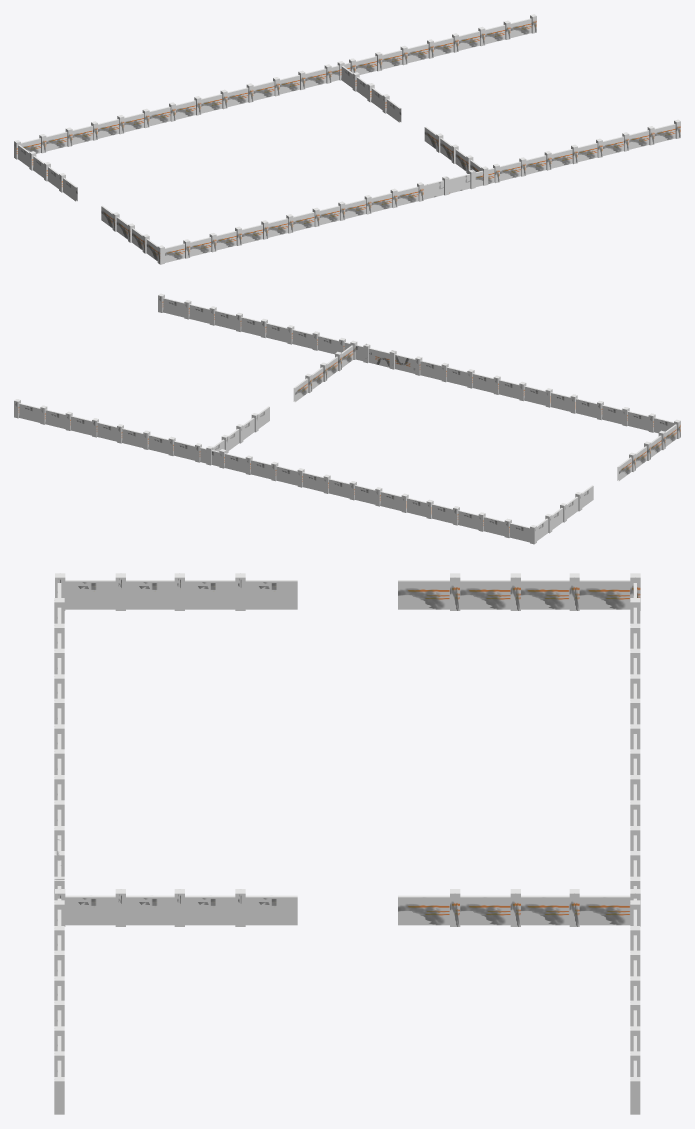
The model's file is Wall.fbx.
3 views of the same model, one above another, from view 1: azimuth 30°, elevation 25°; view 2: azimuth 150°, elevation 25°; view 3: azimuth 270°, elevation 25° (orthographic). The views are drawn at different scales.
Visible parts, largest first — view 1: Cube.061, Cube.064, Cube.049, Cube.054, Cube.059, Cube.060, Cube.051, Cube.062, Cube.053, Cube.057, Cube.063, Cube.065 (+16 smaller); view 2: Cube.053, Cube.064, Cube.054, Cube.061, Cube.063, Cube.049, Cube.051, Cube.059, Cube.052, Cube.062, Cube.065, Cube.067 (+16 smaller); view 3: Cube.074, Cube.076, Cube.046, Cube.048, Cube.073, Cube.075, Cube.045, Cube.047.
Boxes of the visible parts, <box> form: Cube.061: <box>319,195,371,225</box>; Cube.064: <box>371,182,423,212</box>; Cube.049: <box>72,115,124,144</box>; Cube.054: <box>227,77,279,106</box>; Cube.059: <box>216,220,268,250</box>; Cube.060: <box>165,233,216,262</box>; Cube.051: <box>176,89,227,119</box>; Cube.062: <box>268,207,319,237</box>; Cube.053: <box>280,64,331,94</box>; Cube.057: <box>485,14,536,44</box>; Cube.063: <box>424,169,475,199</box>; Cube.065: <box>526,144,577,174</box>; Cube.053: <box>219,449,271,479</box>; Cube.064: <box>415,356,467,386</box>; Cube.054: <box>271,461,323,491</box>; Cube.061: <box>467,369,519,399</box>; Cube.063: <box>363,343,415,373</box>; Cube.049: <box>426,499,478,529</box>; Cube.051: <box>323,474,375,504</box>; Cube.059: <box>570,394,622,424</box>; Cube.052: <box>375,487,426,517</box>; Cube.062: <box>519,381,570,411</box>; Cube.065: <box>261,318,312,348</box>; Cube.067: <box>158,293,209,323</box>; Cube.074: <box>174,889,297,926</box>; Cube.076: <box>398,889,520,926</box>; Cube.046: <box>174,573,297,610</box>; Cube.048: <box>398,573,520,610</box>; Cube.073: <box>55,889,174,926</box>; Cube.075: <box>521,889,640,926</box>; Cube.045: <box>55,573,174,610</box>; Cube.047: <box>521,573,640,610</box>.
Bounding box in the file's own units: 37081 × 1136 × 18084.
